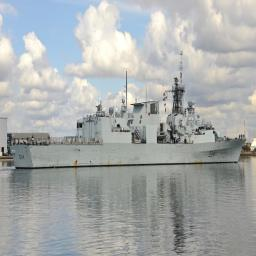Fragata: (9, 51, 251, 173)
